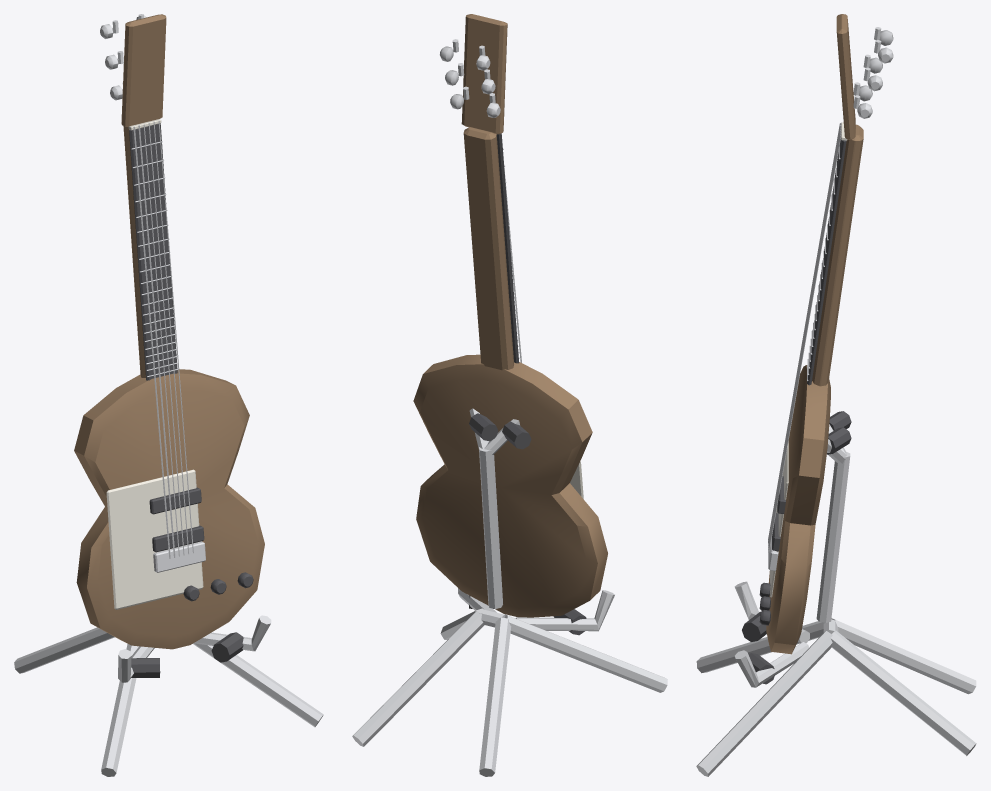
The model's file is music-recording-studio-and-instruments-electric-guitar-ed3da27f__33790.glb.
3 views of the same model, side by side, from view 1: azimuth 30°, elevation 25°; view 2: azimuth 150°, elevation 25°; view 3: azimuth 270°, elevation 25° (orthographic). The views are drawn at different scales.
Parts seen in each view (by area): view 1: electric-guitar-on-stand-sunburst; view 2: electric-guitar-on-stand-sunburst; view 3: electric-guitar-on-stand-sunburst.
Boxes of the visible parts, x1,y1,x2,y2 form: electric-guitar-on-stand-sunburst: [14, 14, 323, 776]; electric-guitar-on-stand-sunburst: [352, 14, 667, 776]; electric-guitar-on-stand-sunburst: [696, 14, 976, 776].
Size of the model in its own units: 0.4104 by 1.21 by 0.438.
